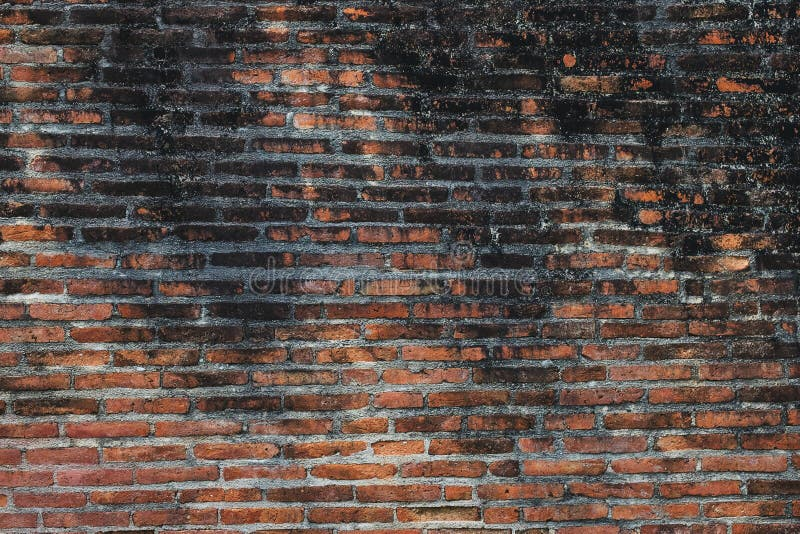Wall: (8, 15, 789, 524)
